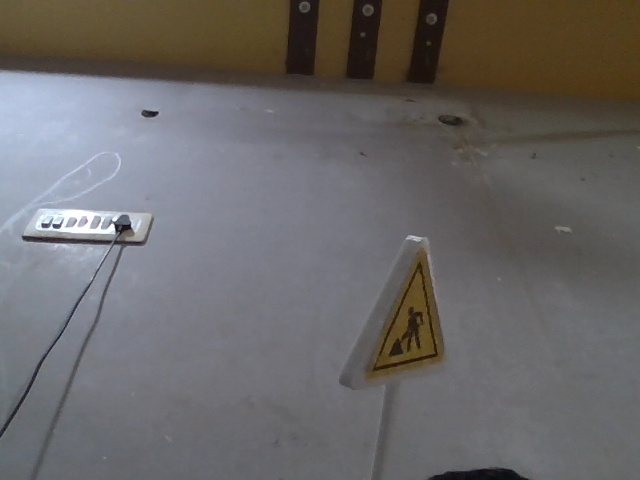workinprogress: (339, 252, 471, 404)
